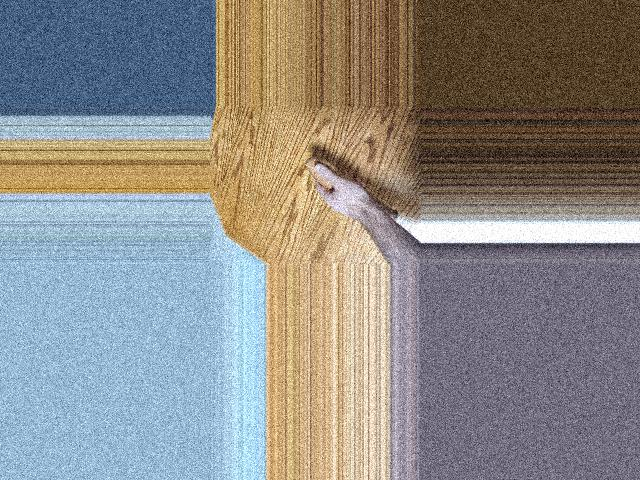sweet_potato: (304, 158, 401, 223)
